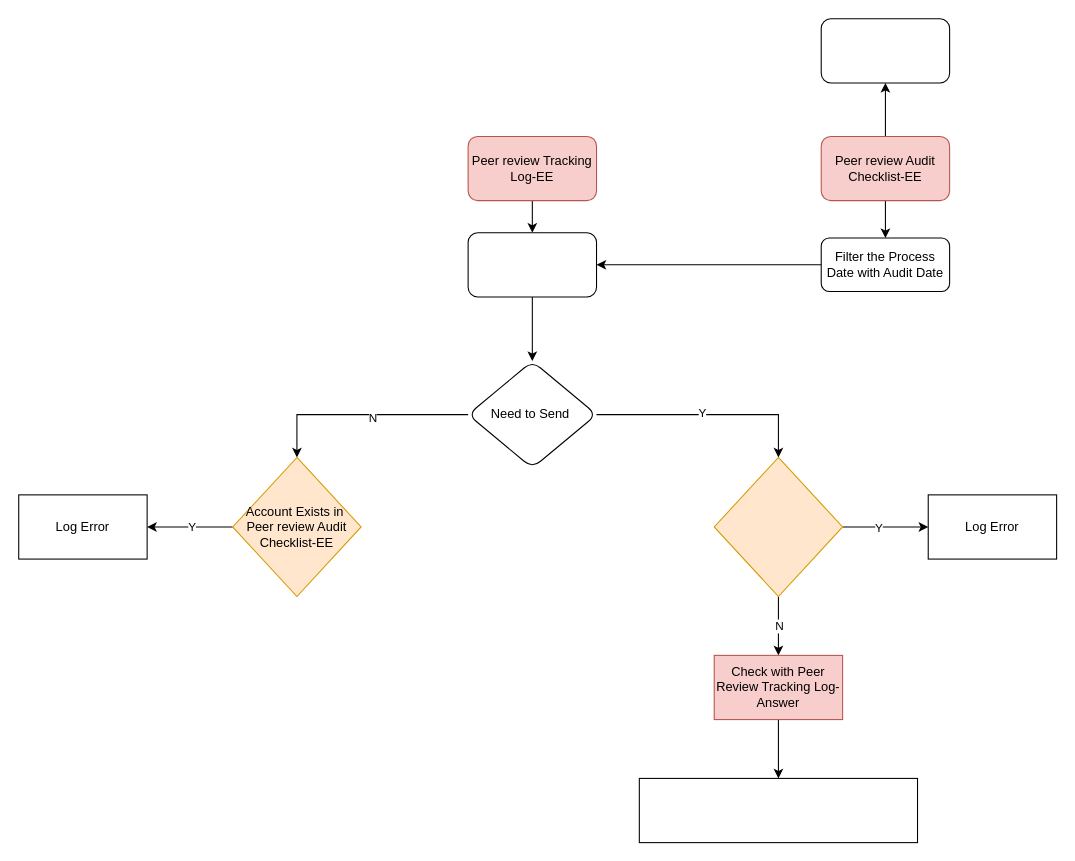
The diagram is 1075 pixels wide and 861 high, and some of its shapes have lost their labels. Each missing label, with the box of its shape:
Account Not Exists in Peer review Audit Checklist-EE: (713, 456, 843, 597)
add a macro to add process date to new line when close: (820, 18, 950, 83)
Check CorrectorWrong and IfWrong,InputCorrctInformation: (638, 777, 918, 843)
Filter the Received Date with Audit Date: (467, 232, 597, 297)
